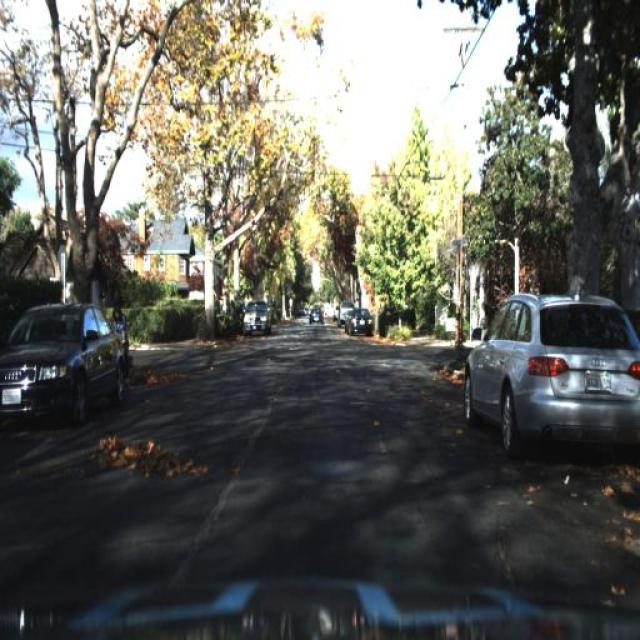car: (459, 267, 639, 463), (0, 281, 121, 450), (3, 300, 122, 424), (239, 291, 273, 340), (348, 307, 373, 338), (348, 308, 372, 340), (306, 302, 326, 327), (336, 302, 350, 329)
trafficLight: (111, 297, 135, 385), (111, 303, 127, 353)
